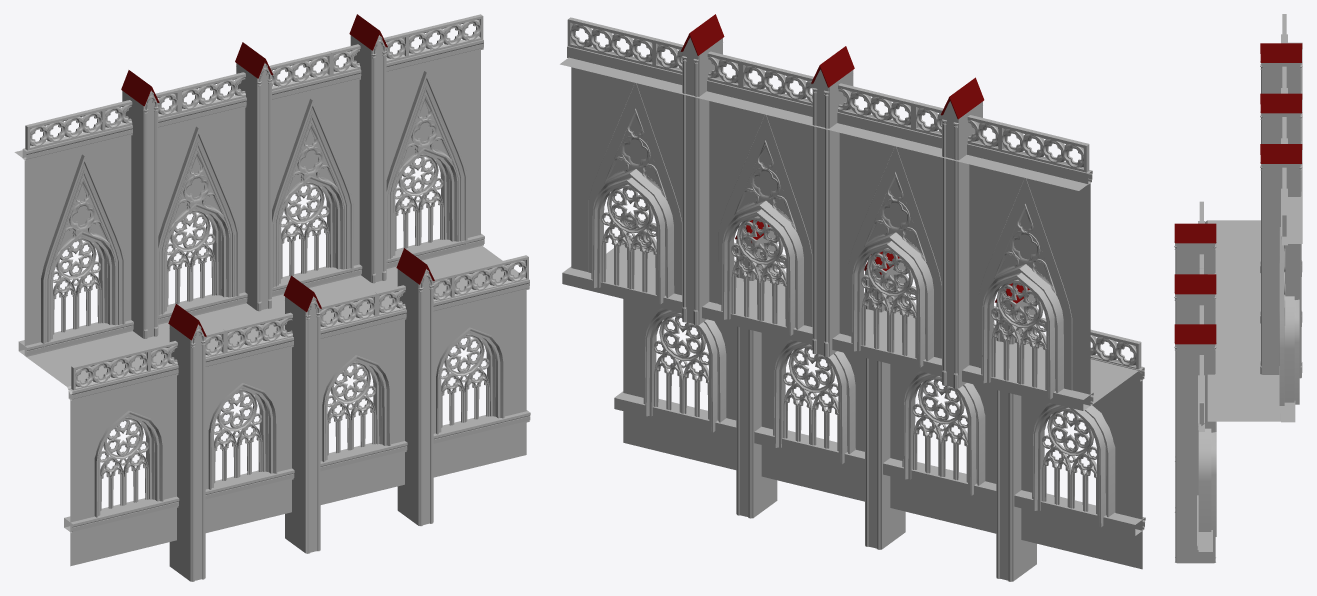
The model's file is hall_005.glb.
3 views of the same model, side by side, from view 1: azimuth 30°, elevation 25°; view 2: azimuth 150°, elevation 25°; view 3: azimuth 270°, elevation 25° (orthographic). The views are drawn at different scales.
Visible parts, largest first — view 1: hall_005; view 2: hall_005; view 3: hall_005.
Boxes of the visible parts, <box> form: hall_005: <box>14,14,530,581</box>; hall_005: <box>560,14,1145,581</box>; hall_005: <box>1174,14,1302,563</box>.
Size of the model in its own units: 4.24 by 4.07 by 1.14.
